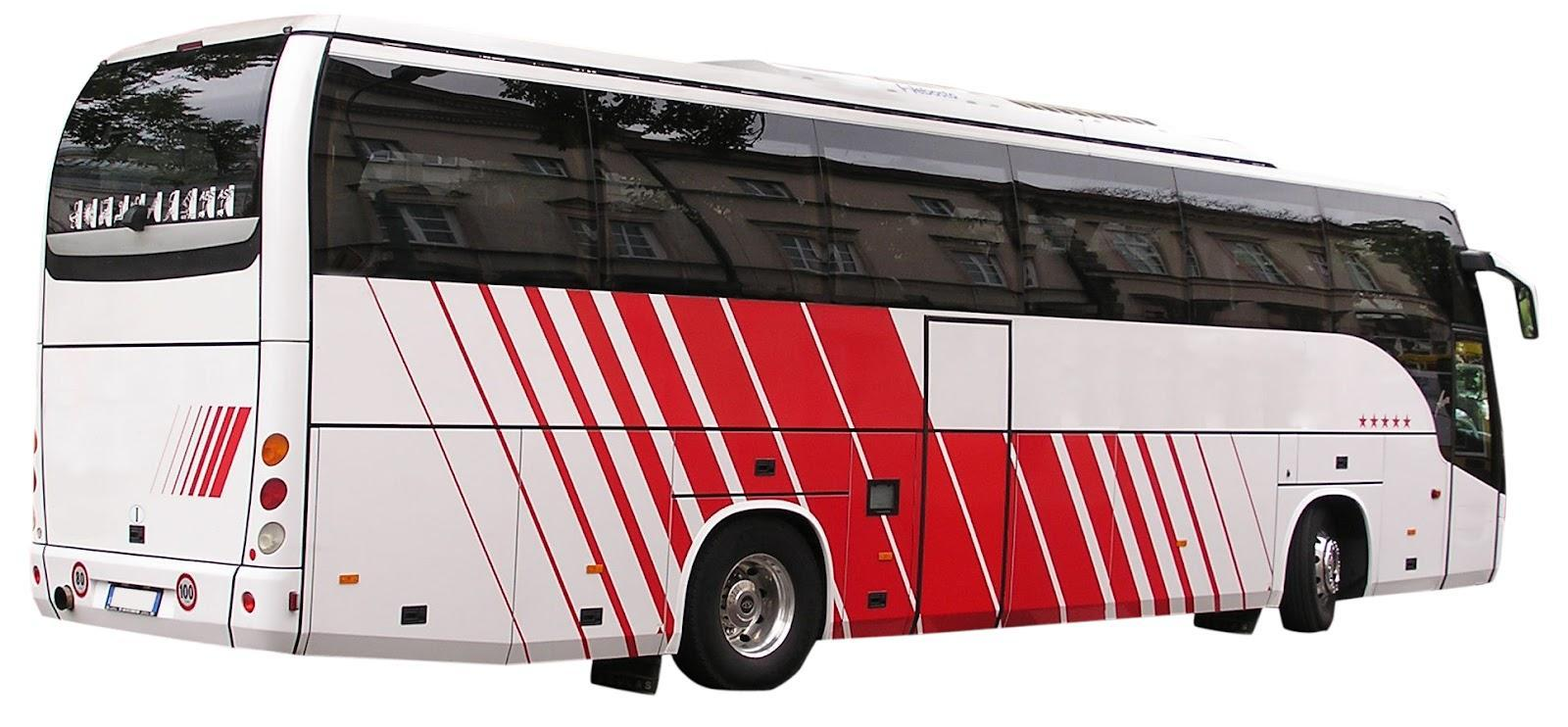Bus: (11, 14, 1537, 694)
